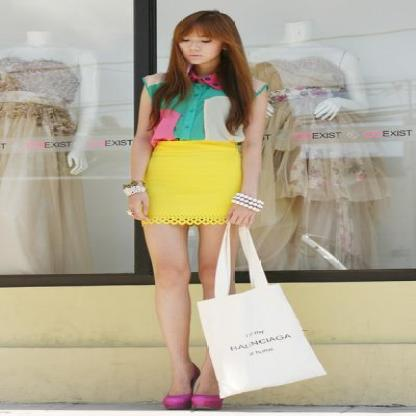bag: (198, 227, 324, 398)
shirt: (134, 64, 236, 158)
shoe: (162, 386, 223, 411)
skirt: (141, 139, 261, 224)
